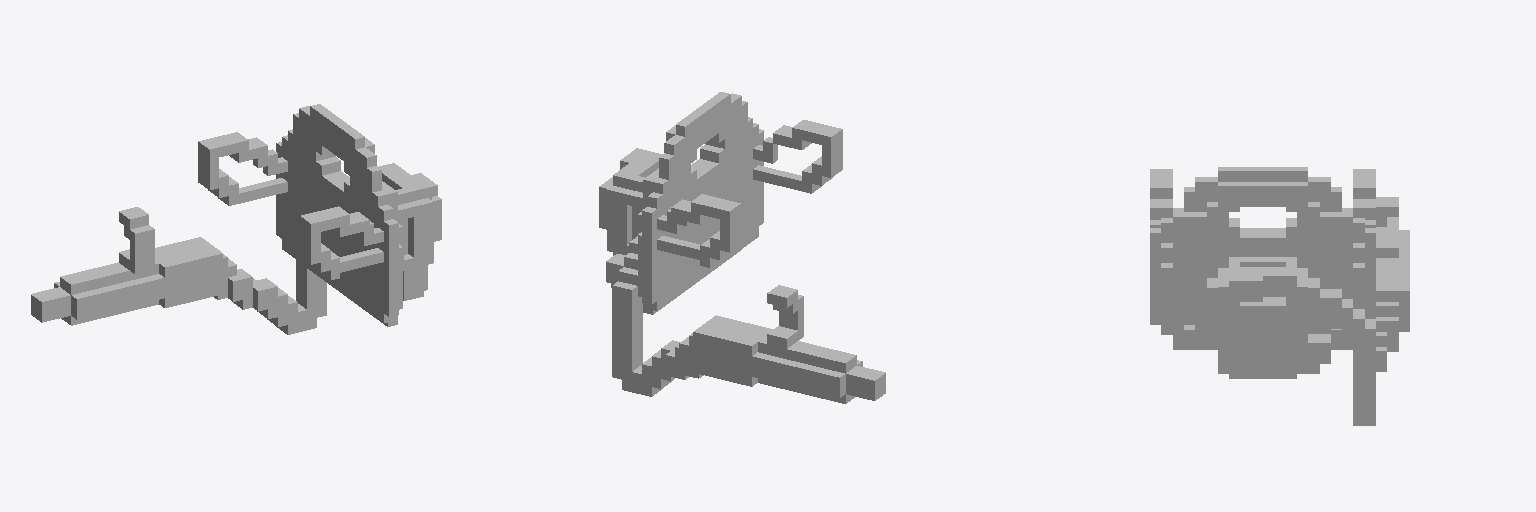
The model's file is untitled air gotovoe sobaky porvali-0.obj.
3 views of the same model, side by side, from view 1: azimuth 30°, elevation 25°; view 2: azimuth 150°, elevation 25°; view 3: azimuth 270°, elevation 25° (orthographic).
Parts seen in each view (by area): view 1: object 1; view 2: object 1; view 3: object 1.
Boxes of the visible parts, x1=… form: object 1: x1=31, y1=104, x2=441, y2=334; object 1: x1=599, y1=92, x2=885, y2=403; object 1: x1=1150, y1=167, x2=1409, y2=425.
Size of the model in its own units: 3.4 by 2.4 by 2.3.